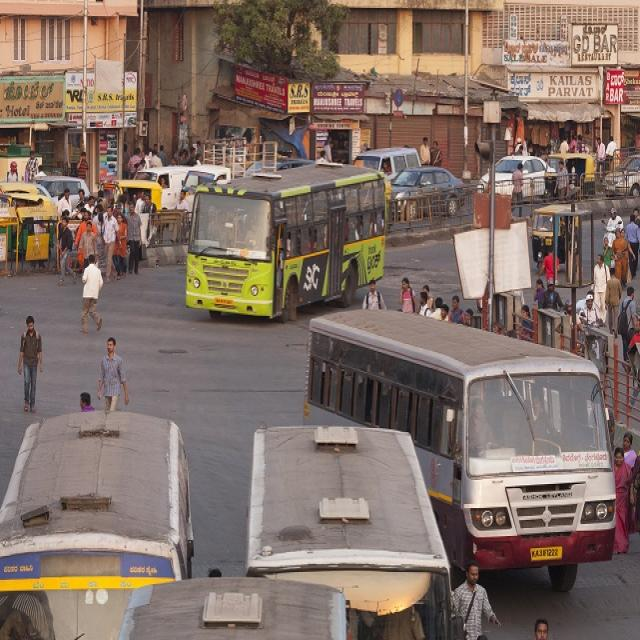bus: (304, 310, 614, 591), (186, 165, 385, 320)
car: (391, 167, 464, 213)
